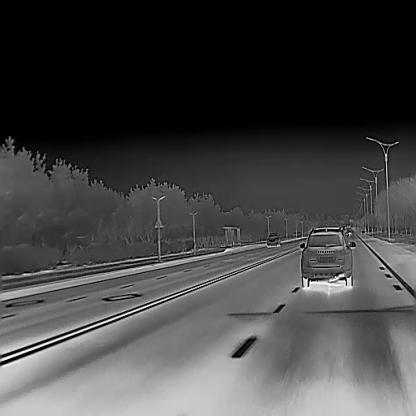car: (298, 226, 356, 286), (266, 231, 280, 246), (346, 229, 352, 235)
